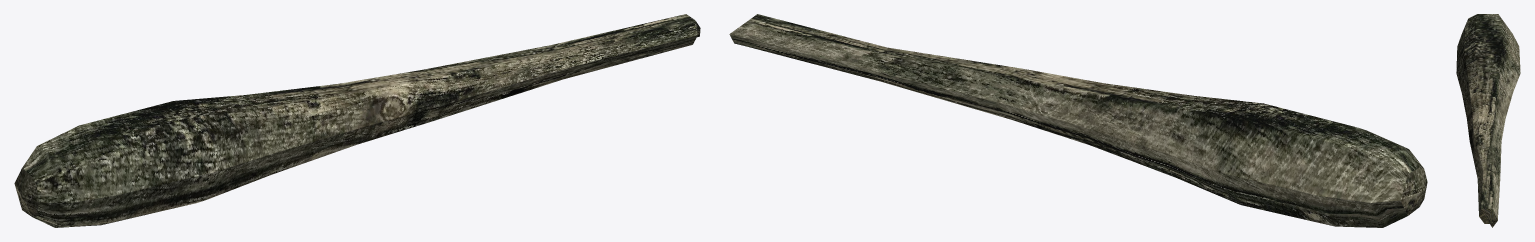
Rendered from ITMW_CLUB_1H_01.glb.
3 renders of one model, left to right at view 1: azimuth 30°, elevation 25°; view 2: azimuth 150°, elevation 25°; view 3: azimuth 270°, elevation 25°, orthographic. The views are drawn at different scales.
Parts seen in each view (by area): view 1: ITMW_CLUB_1H_01; view 2: ITMW_CLUB_1H_01; view 3: ITMW_CLUB_1H_01.
Part boxes in pixels (box(x1,y1,x2,y2)): ITMW_CLUB_1H_01: box(14, 14, 700, 227); ITMW_CLUB_1H_01: box(729, 14, 1427, 227); ITMW_CLUB_1H_01: box(1456, 14, 1520, 227).
Size of the model in its own units: 1.21 by 0.1439 by 0.1684.
2 materials, 2 textured.
